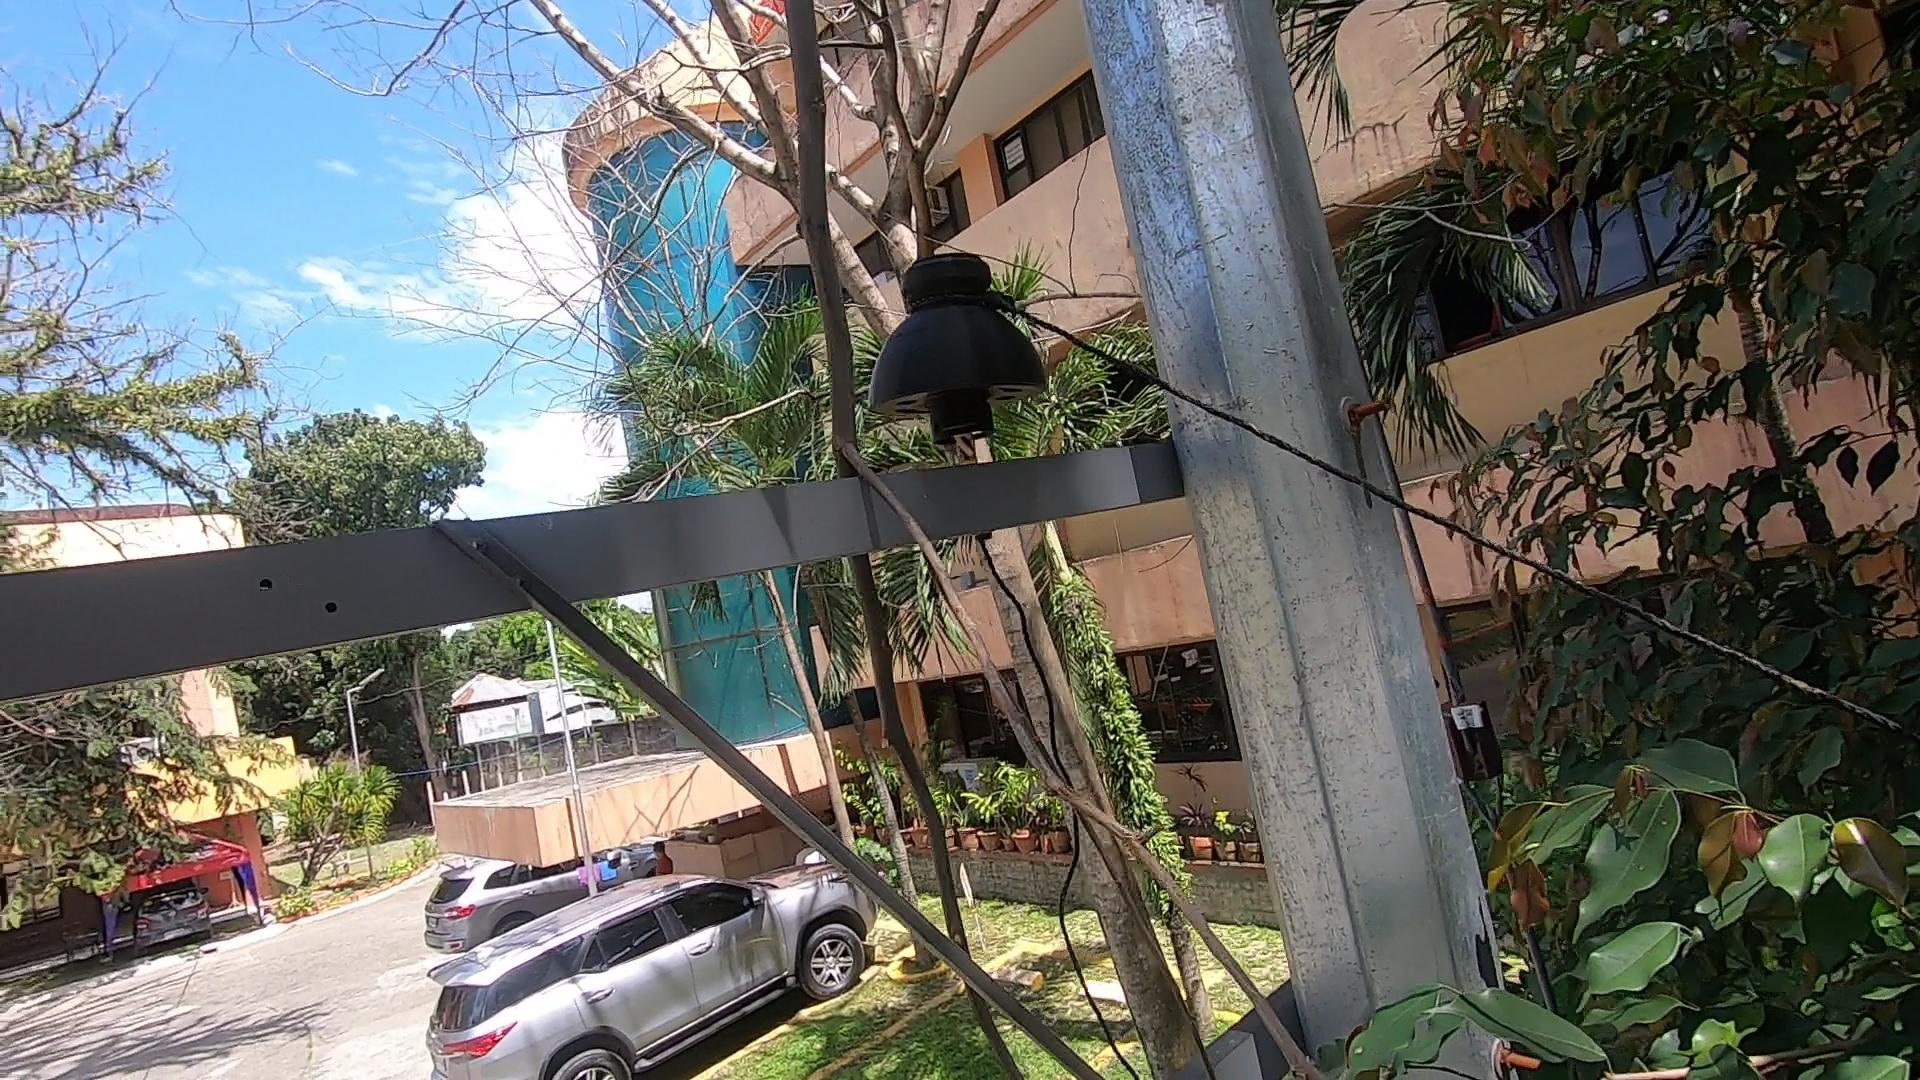tree branch: (704, 3, 1349, 1080)
